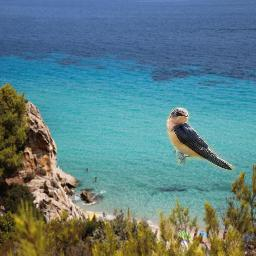Swallow: (166, 104, 239, 174)
